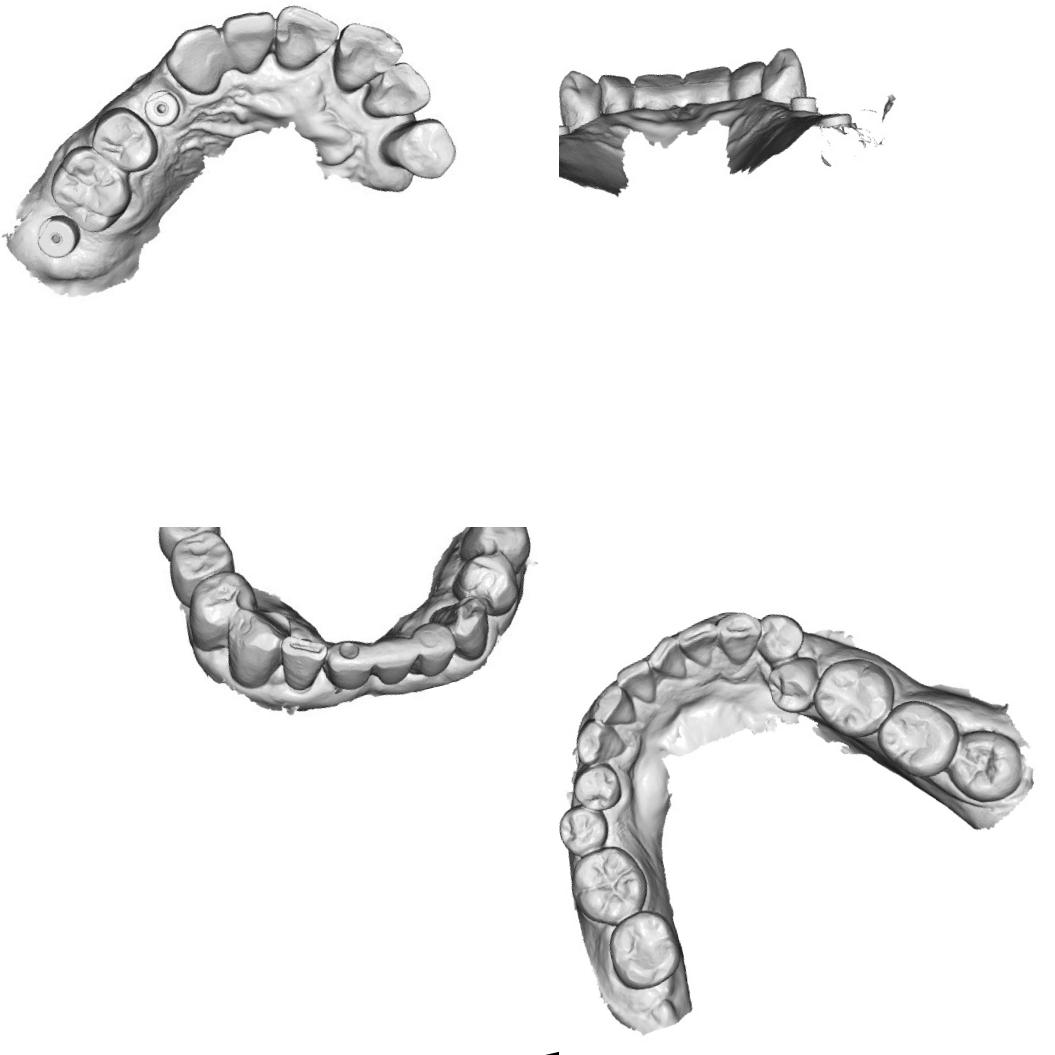canine: (216, 602, 298, 706), (370, 108, 464, 192), (156, 19, 236, 106), (437, 588, 500, 667), (752, 42, 811, 108), (711, 606, 770, 671), (568, 712, 630, 769), (559, 62, 608, 125)
implant: (28, 206, 90, 270), (136, 76, 186, 136), (815, 105, 854, 132), (786, 90, 822, 117), (559, 121, 571, 144)
incisor: (321, 11, 411, 96), (261, 0, 344, 75), (354, 54, 436, 128), (218, 5, 285, 78), (322, 632, 381, 695), (407, 608, 460, 675), (628, 63, 691, 119), (276, 632, 328, 690), (680, 60, 740, 110), (585, 680, 640, 732), (370, 628, 421, 684), (675, 618, 726, 674), (641, 631, 691, 688), (611, 656, 661, 712), (722, 56, 774, 104), (594, 67, 640, 118)
molar: (40, 134, 142, 243), (805, 648, 904, 746), (870, 690, 968, 786), (563, 838, 657, 934), (938, 720, 1032, 810), (600, 904, 688, 996)
premolar: (172, 563, 268, 664), (444, 546, 528, 629), (159, 527, 243, 607), (84, 98, 163, 179), (449, 527, 541, 580), (761, 652, 829, 720), (750, 606, 810, 666), (566, 758, 626, 817), (559, 798, 614, 860)
